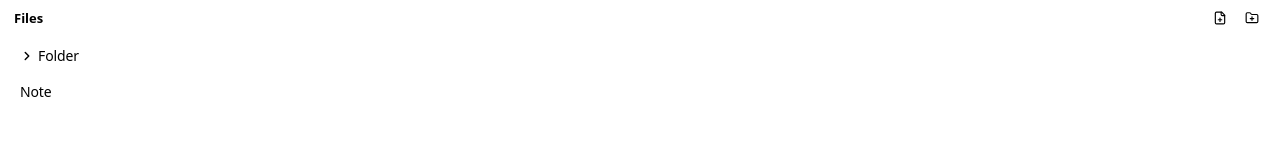
it: FileSidebar layout › passes nested depth through typed CSS properties
The image size is (1280, 160).
Step 1. Click the list item "Folder" → click(58, 56), box [10,40,1270,72]
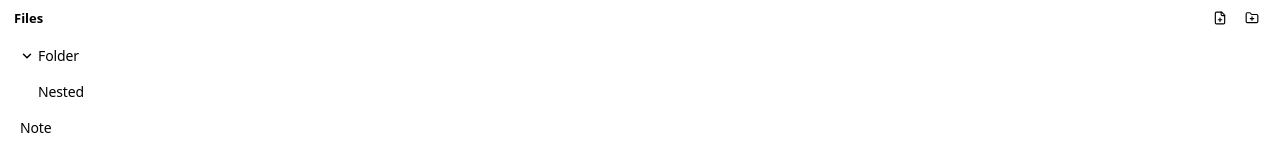
Now the element "Nested" is shown, box [10,74,1270,110]
